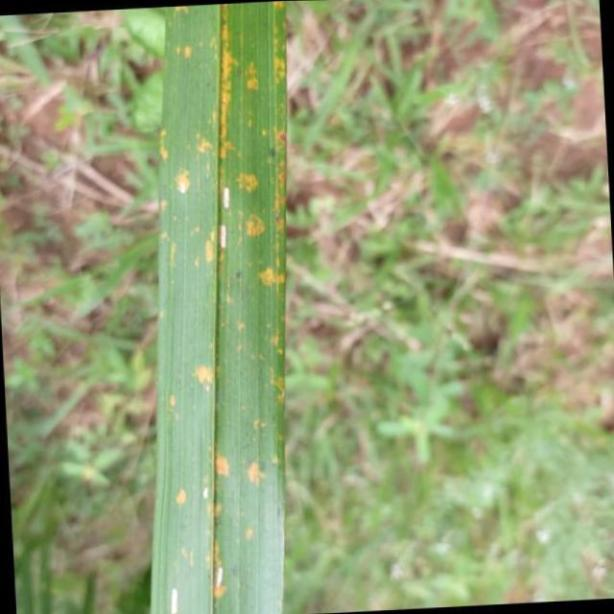Kalium: (148, 1, 286, 614)
